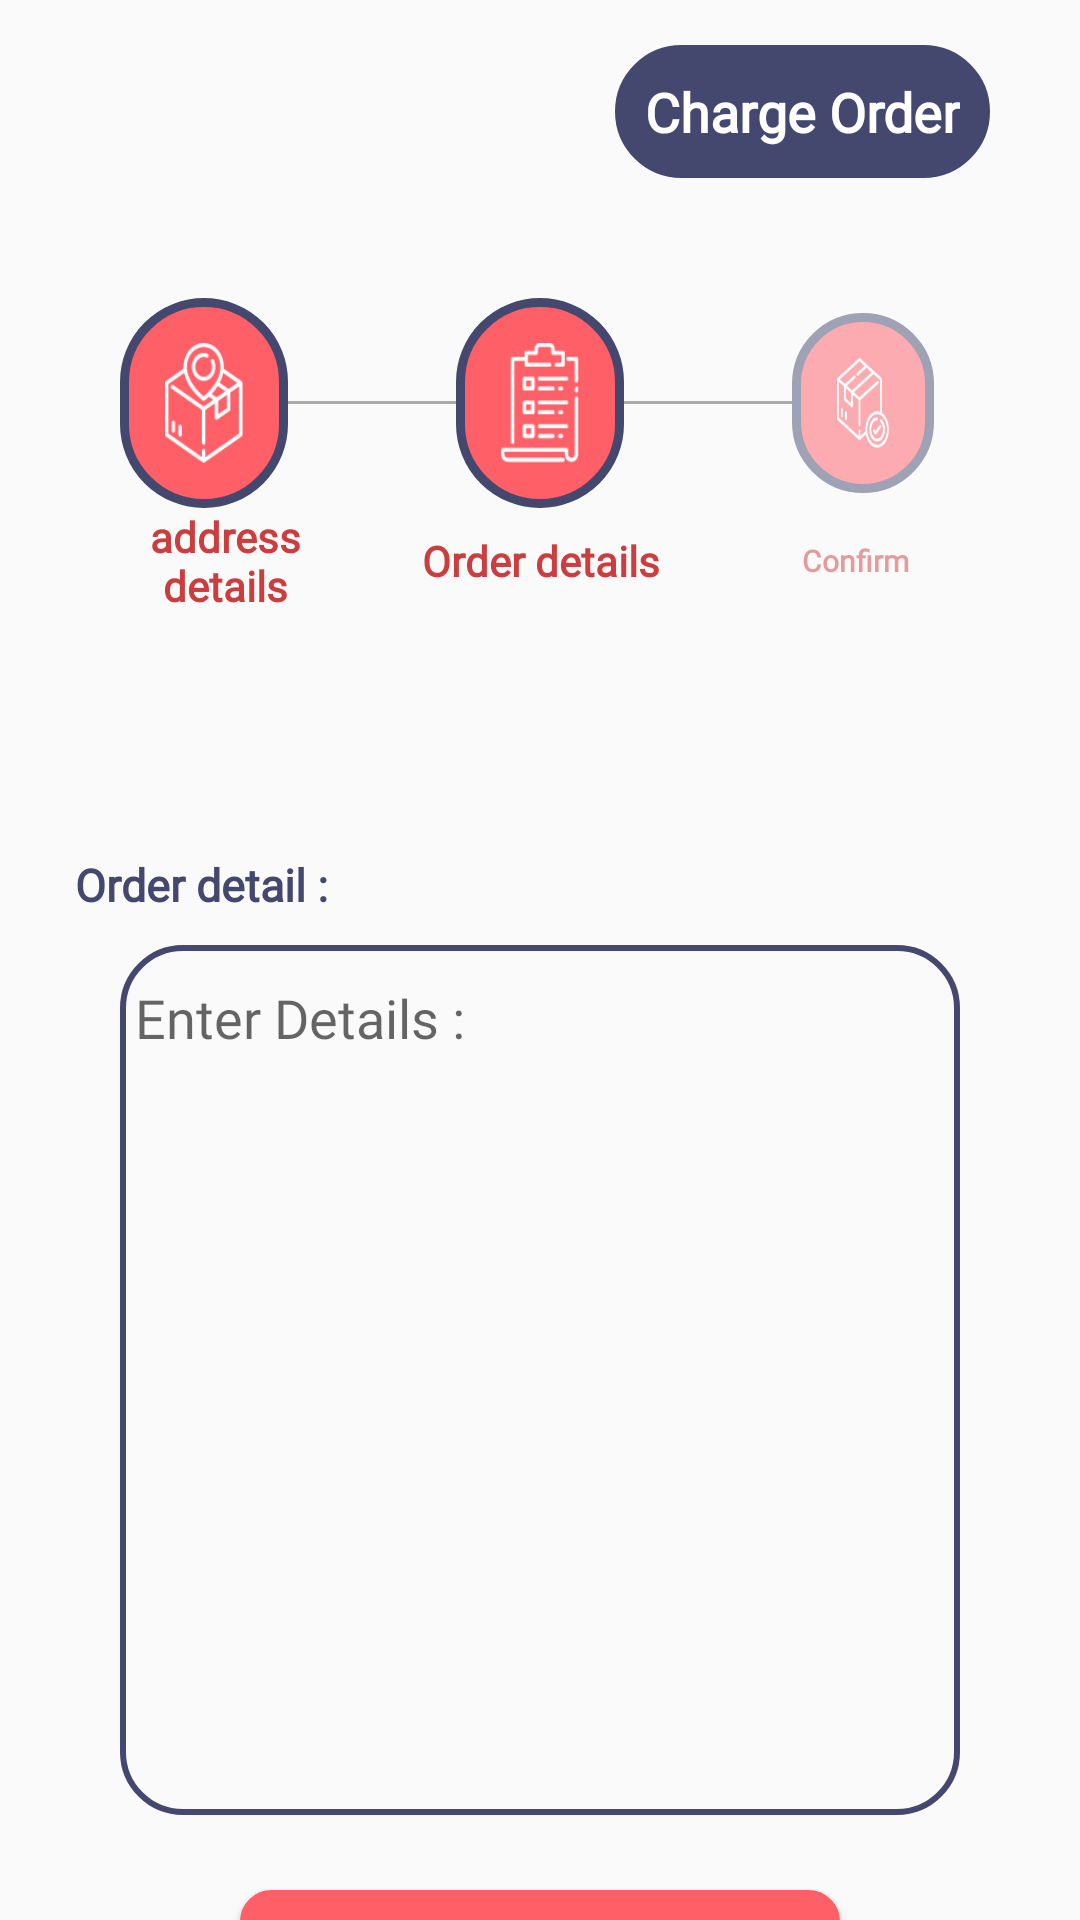

Icons on this 1080w x 1920h Android screen, each with its box as bbox=[x1, y1, x2, y2]:
noun checklist: bbox=[456, 298, 624, 508]
noun order: bbox=[792, 313, 934, 493]
noun shipment tracking: bbox=[120, 298, 288, 508]
